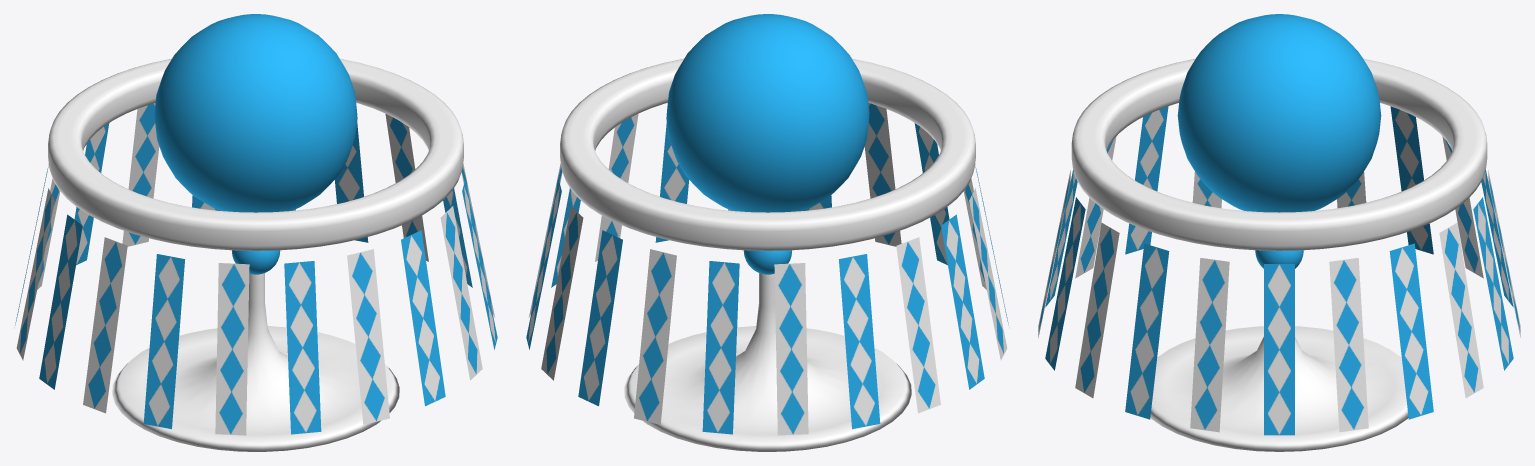
File: teraforming_building_water.FBX
3 renders of one model, left to right at view 1: azimuth 30°, elevation 25°; view 2: azimuth 150°, elevation 25°; view 3: azimuth 270°, elevation 25°, orthographic.
Visible parts, largest first — view 1: Plane003, Sphere002, Tube001, Cylinder001, Sphere001; view 2: Plane003, Sphere002, Tube001, Cylinder001, Sphere001; view 3: Plane003, Sphere002, Tube001, Cylinder001, Sphere001.
Part boxes in pixels (x1=…): Plane003: x1=15, y1=103, x2=497, y2=435; Sphere002: x1=154, y1=14, x2=357, y2=212; Tube001: x1=48, y1=58, x2=463, y2=250; Cylinder001: x1=112, y1=273, x2=399, y2=451; Sphere001: x1=232, y1=250, x2=280, y2=274; Plane003: x1=526, y1=103, x2=1008, y2=435; Sphere002: x1=666, y1=14, x2=869, y2=212; Tube001: x1=560, y1=58, x2=975, y2=250; Cylinder001: x1=624, y1=273, x2=911, y2=451; Sphere001: x1=743, y1=250, x2=791, y2=274; Plane003: x1=1038, y1=106, x2=1520, y2=435; Sphere002: x1=1177, y1=14, x2=1381, y2=212; Tube001: x1=1071, y1=58, x2=1487, y2=250; Cylinder001: x1=1150, y1=326, x2=1408, y2=451; Sphere001: x1=1255, y1=250, x2=1303, y2=268.
Size of the model in its own units: 109 by 94.98 by 109.
Materials: 4 (4 with a texture image).
